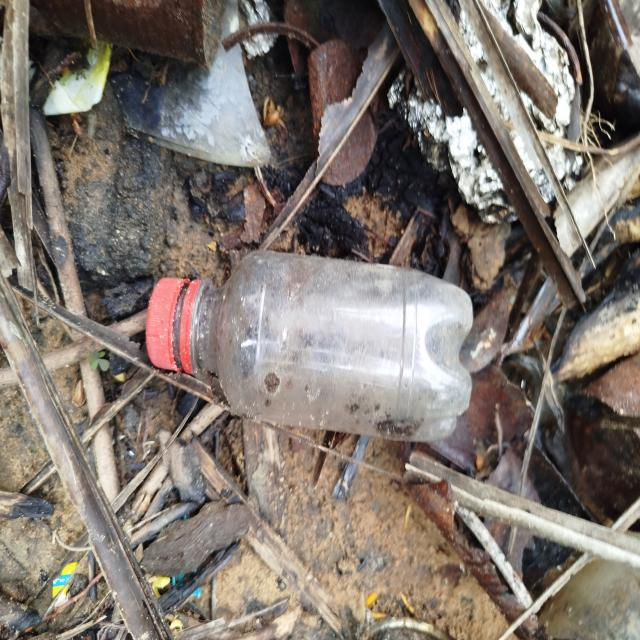plastic: (136, 241, 484, 455)
